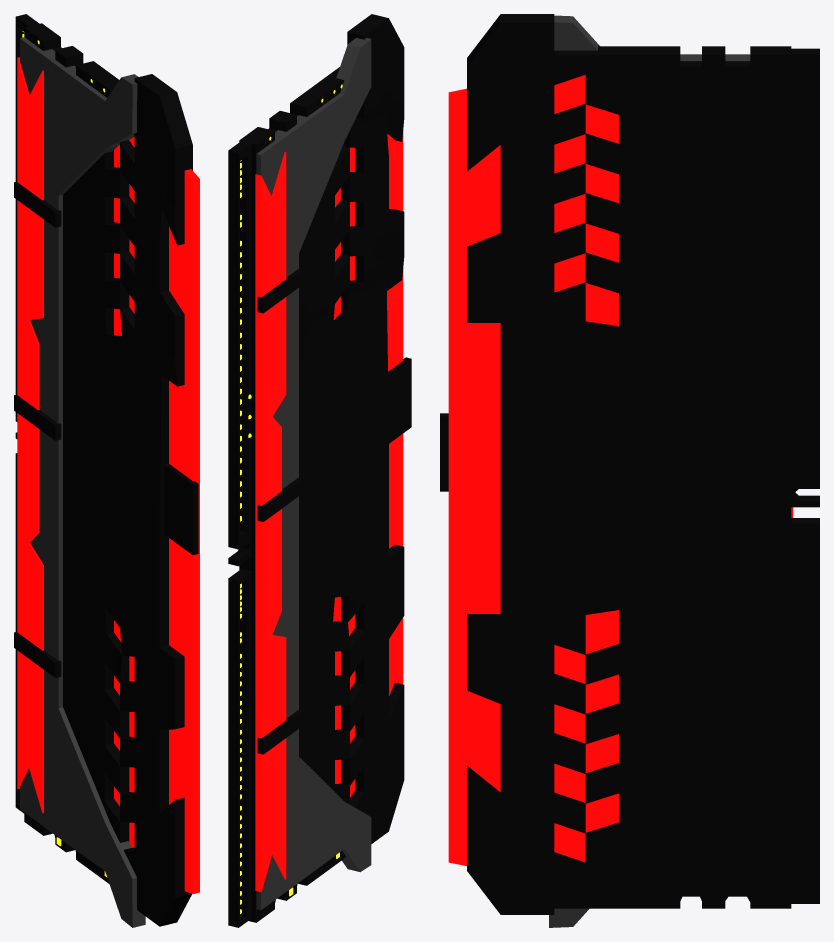
Rendered from ram_red.glb.
The picture shows the model from 3 angles, left to right: view 1: azimuth 30°, elevation 25°; view 2: azimuth 150°, elevation 25°; view 3: azimuth 270°, elevation 25°; orthographic projection. The views are drawn at different scales.
Parts seen in each view (by area): view 1: part_ram_red; view 2: part_ram_red; view 3: part_ram_red.
Part boxes in pixels (box(x1,y1,x2,y2)): part_ram_red: box(14, 14, 199, 927); part_ram_red: box(228, 14, 411, 927); part_ram_red: box(440, 14, 819, 927).
Bounding box in the file's own units: 0.0432 × 1.33 × 0.5035.
